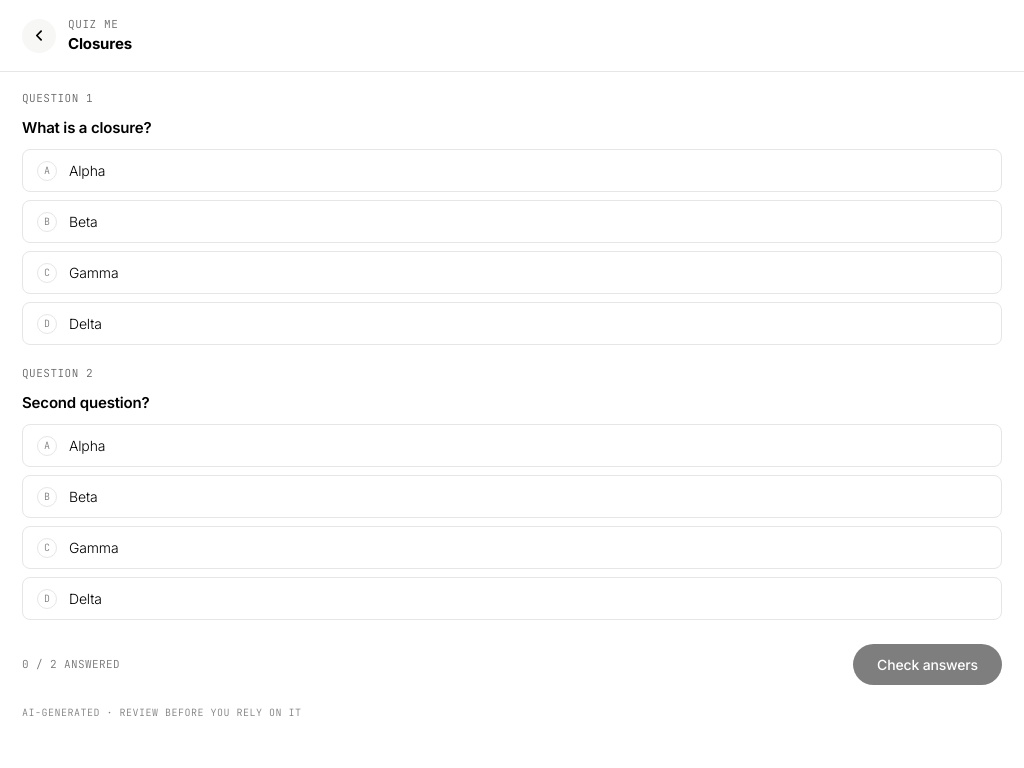
Scenario: QuizPanel flow › generates, lets you answer, then grades with score + explanations
Check: the text "What is a closure?" is shown, box [22,118,152,136]
Answer both questions (option "Alpha" in each).
Click the text "Alpha" below "What is a closure?" at (87, 170), box [69,162,105,179]
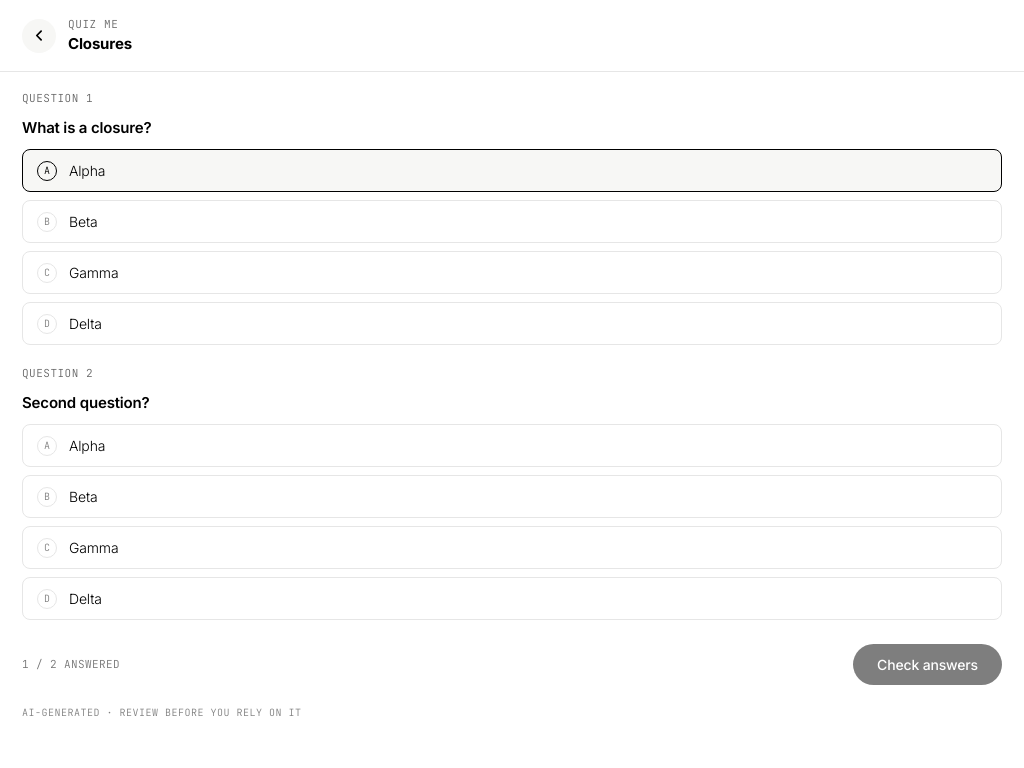
Click the text "Alpha" below "Second question?" at (87, 446), box [69,437,105,454]
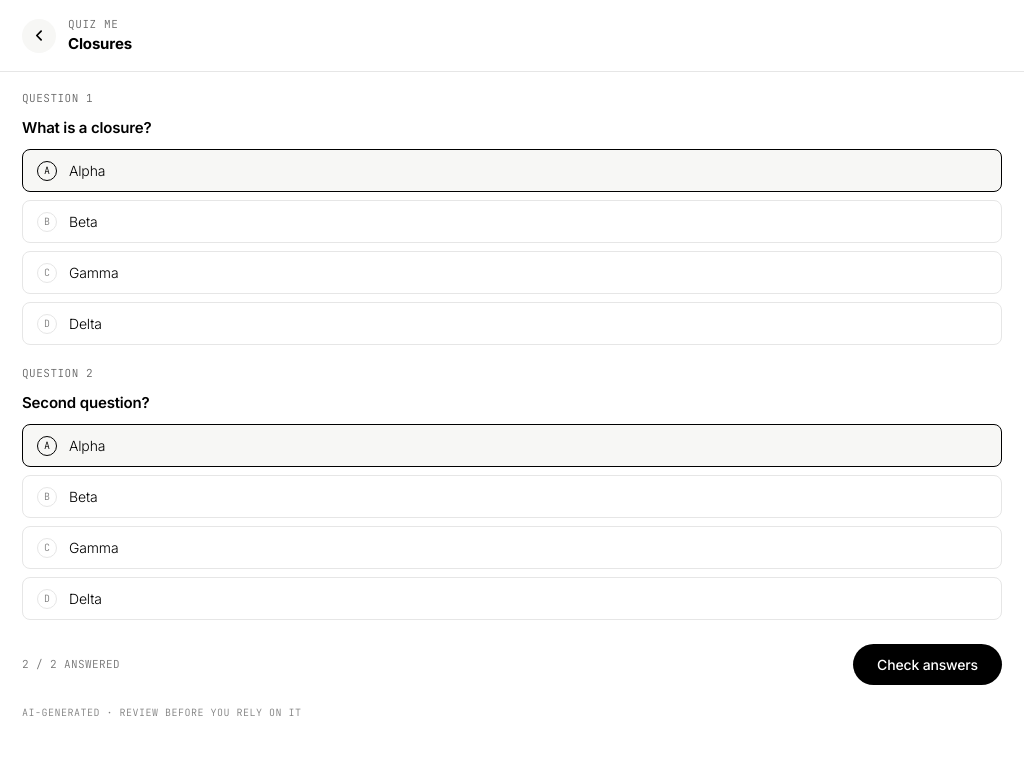
Click the button "Check answers" at (928, 664), box [853,644,1002,685]
(page scrolled)
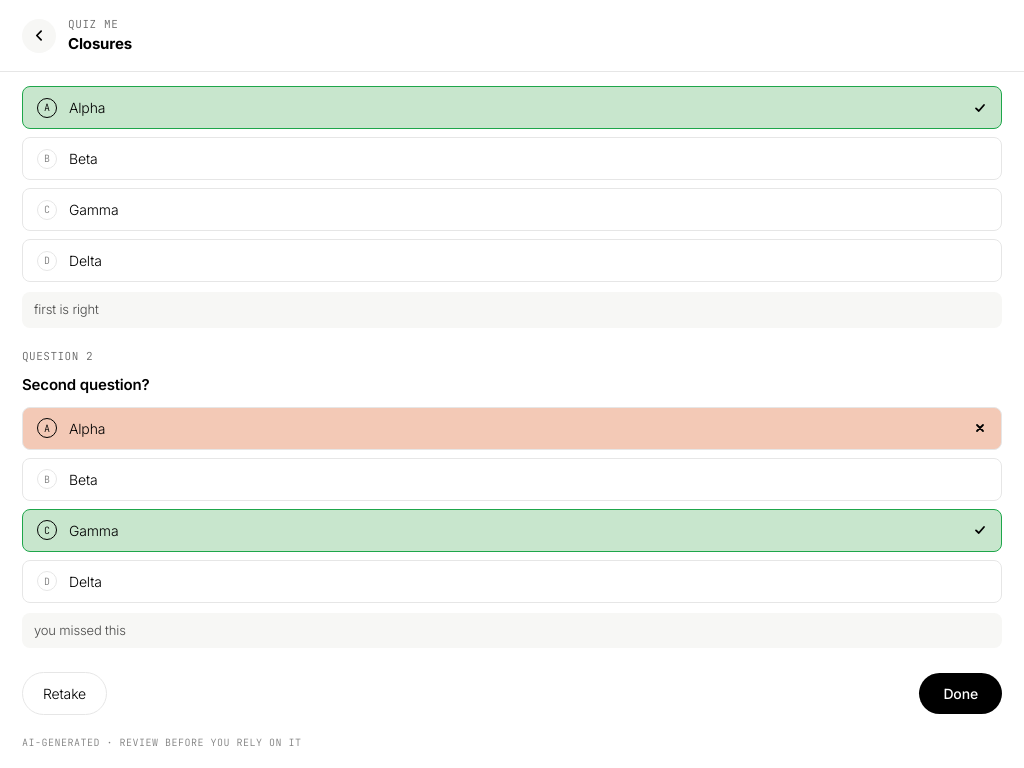
Check: the text "first is right" is shown, box [22,292,1002,328]
Check: the text "you missed this" is shown, box [22,612,1002,648]
